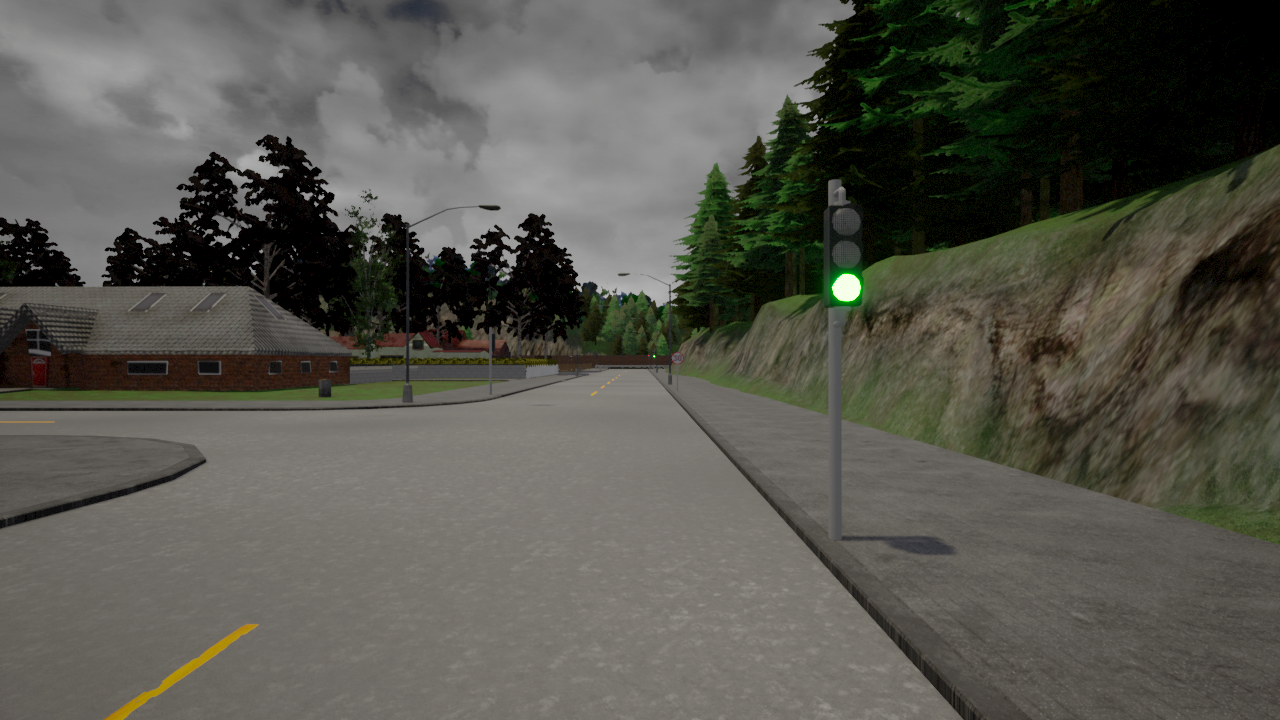green: (820, 200, 867, 308)
